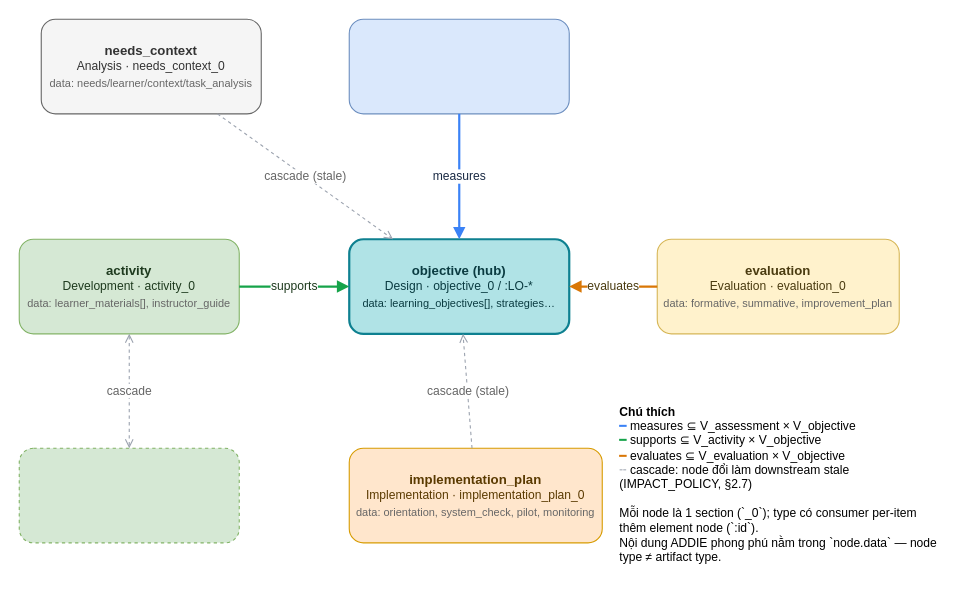
This 963x611 diagram has some shape labels left out. The shapes that lost their labels are listed below. From the top down, each one's centre as x and y in pixels, then its label:
At (458,66): "assessment Development · assessment_0 data: assessment_tools[], expert_review".
At (128,495): "material Development · material_0 data: learner_materials[]".
